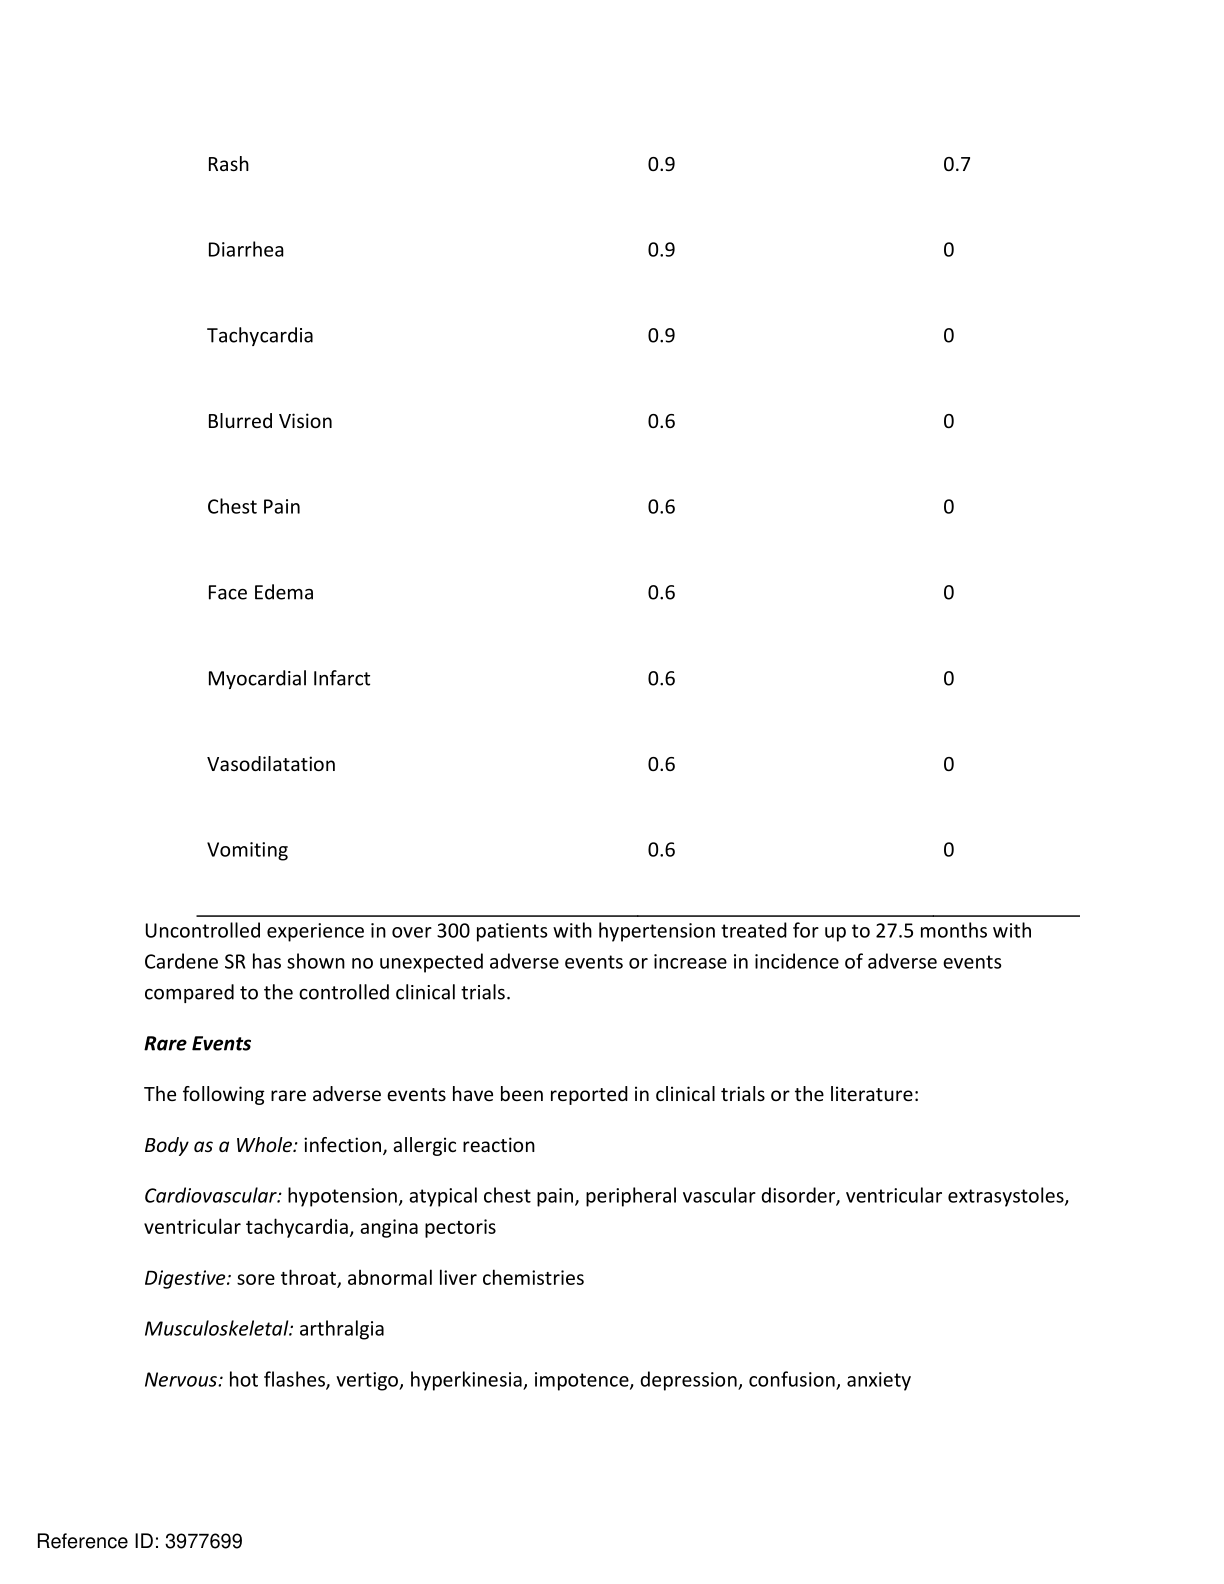nolines: (203, 150, 975, 867)
